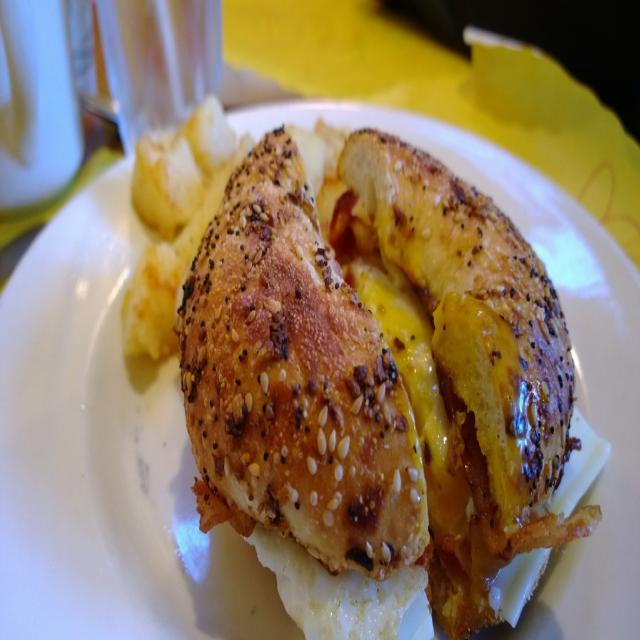Bagel: (182, 118, 582, 640)
